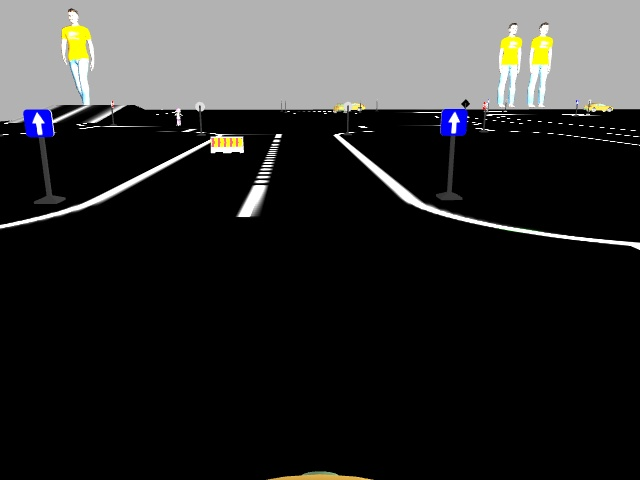ClosedRoadStand: (209, 137, 244, 153)
OneWay: (23, 110, 52, 138), (442, 109, 465, 134)
